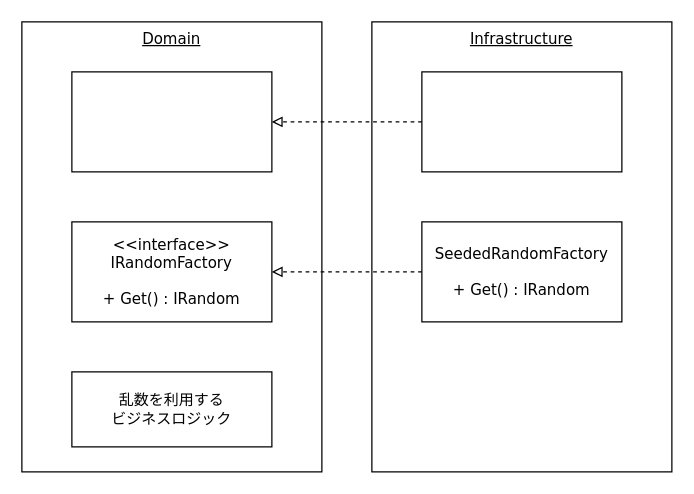
The diagram is 694 pixels wide and 494 high, and some of its shapes have lost their labels. Here are the shapes that lost their labels. From the top down, the centre of each, then its label:
(x=171, y=121): <<interface>> IRandom + Next(min, max) : int
(x=521, y=121): SeededRandom + Next(min, max) : int
